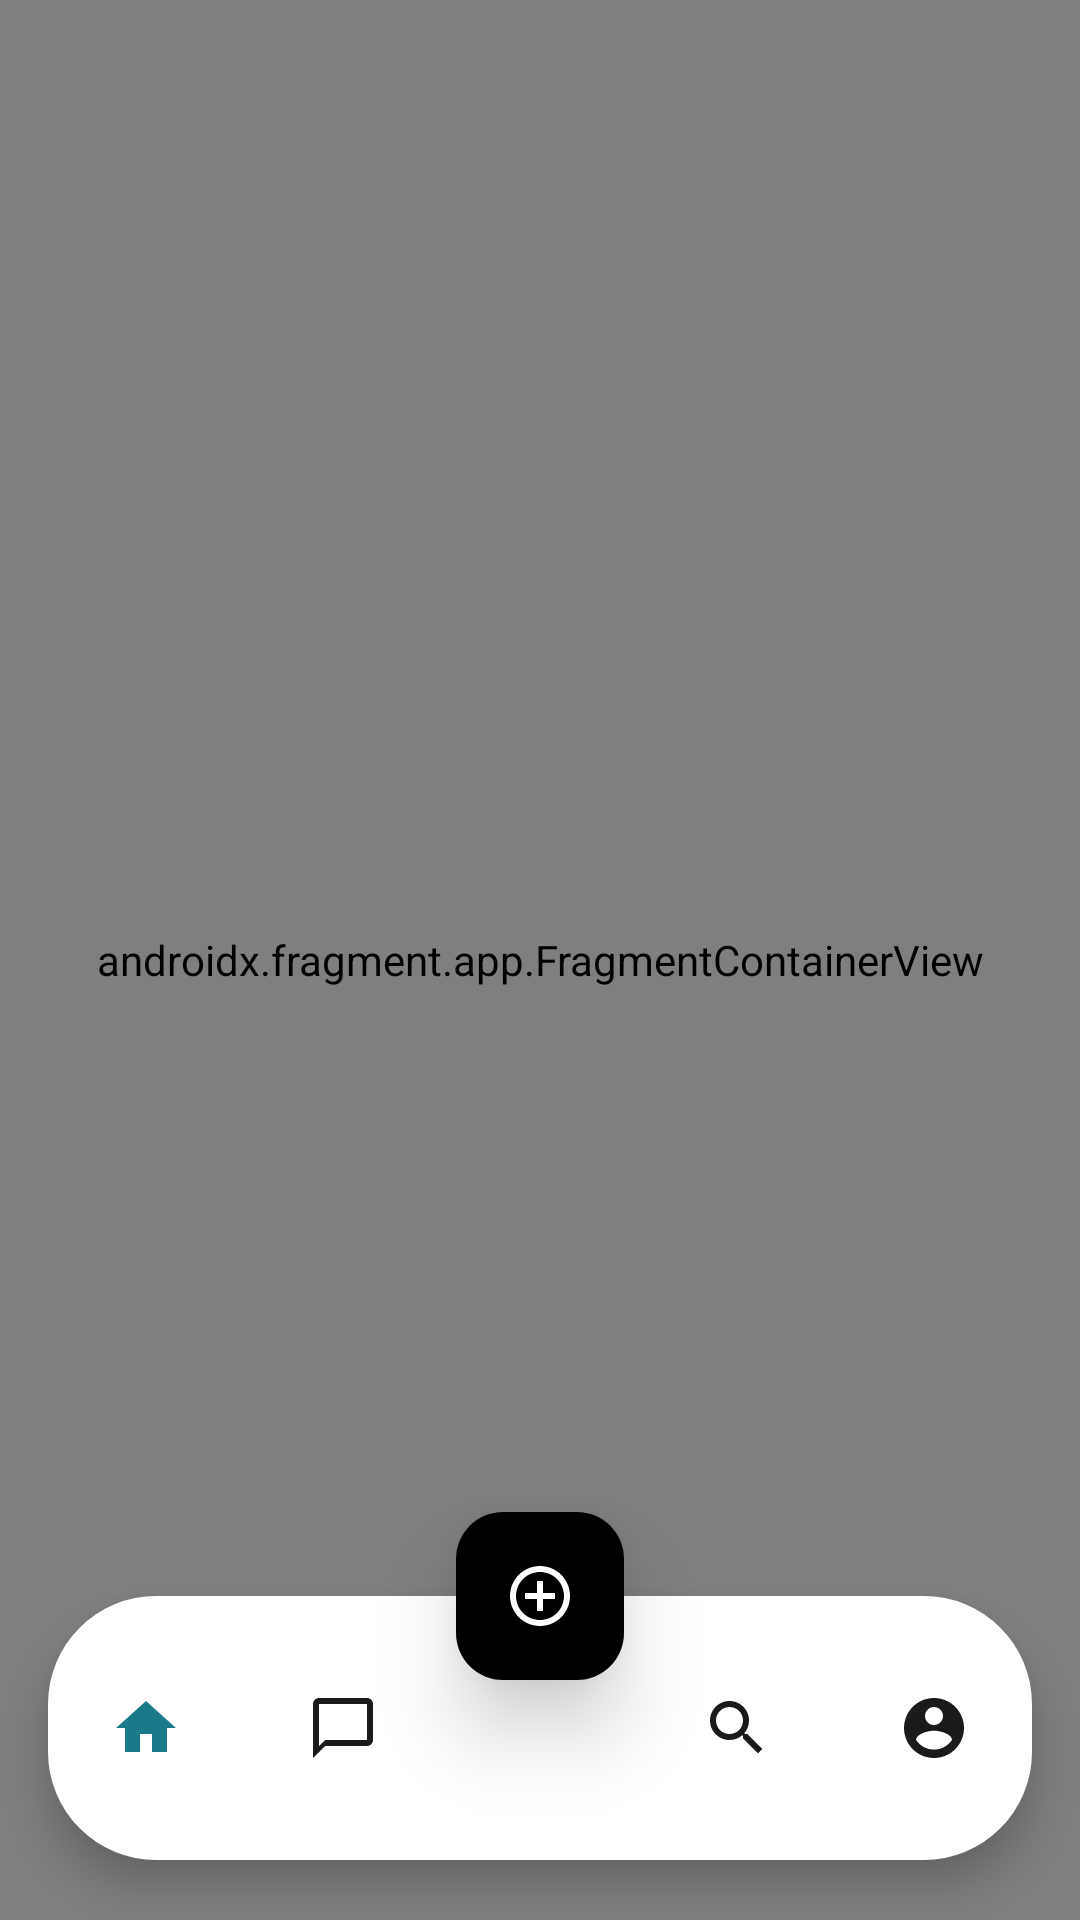

Where to tap for icons on this 1080 x 1920 app screen, as [x,y]:
add: [540,1596]
